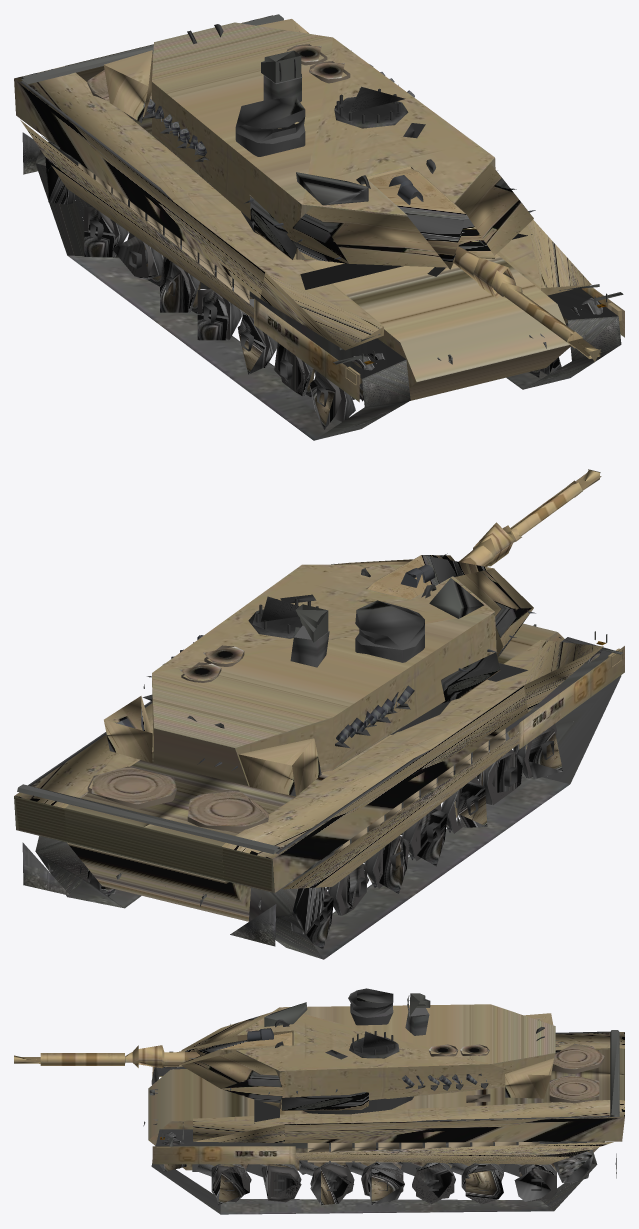
File: tank.lod0.glb
3 renders of one model, top to bottom at view 1: azimuth 30°, elevation 25°; view 2: azimuth 150°, elevation 25°; view 3: azimuth 270°, elevation 25°, orthographic. The views are drawn at different scales.
Visible parts, largest first — view 1: Body 1_Textures Body _0; view 2: Body 1_Textures Body _0; view 3: Body 1_Textures Body _0.
Part boxes in pixels (x1=…): Body 1_Textures Body _0: x1=14, y1=14, x2=624, y2=440; Body 1_Textures Body _0: x1=14, y1=469, x2=624, y2=959; Body 1_Textures Body _0: x1=14, y1=988, x2=624, y2=1214.
Size of the model in its own units: 3.5 by 2.94 by 9.5.
Materials: 1 (1 with a texture image).
